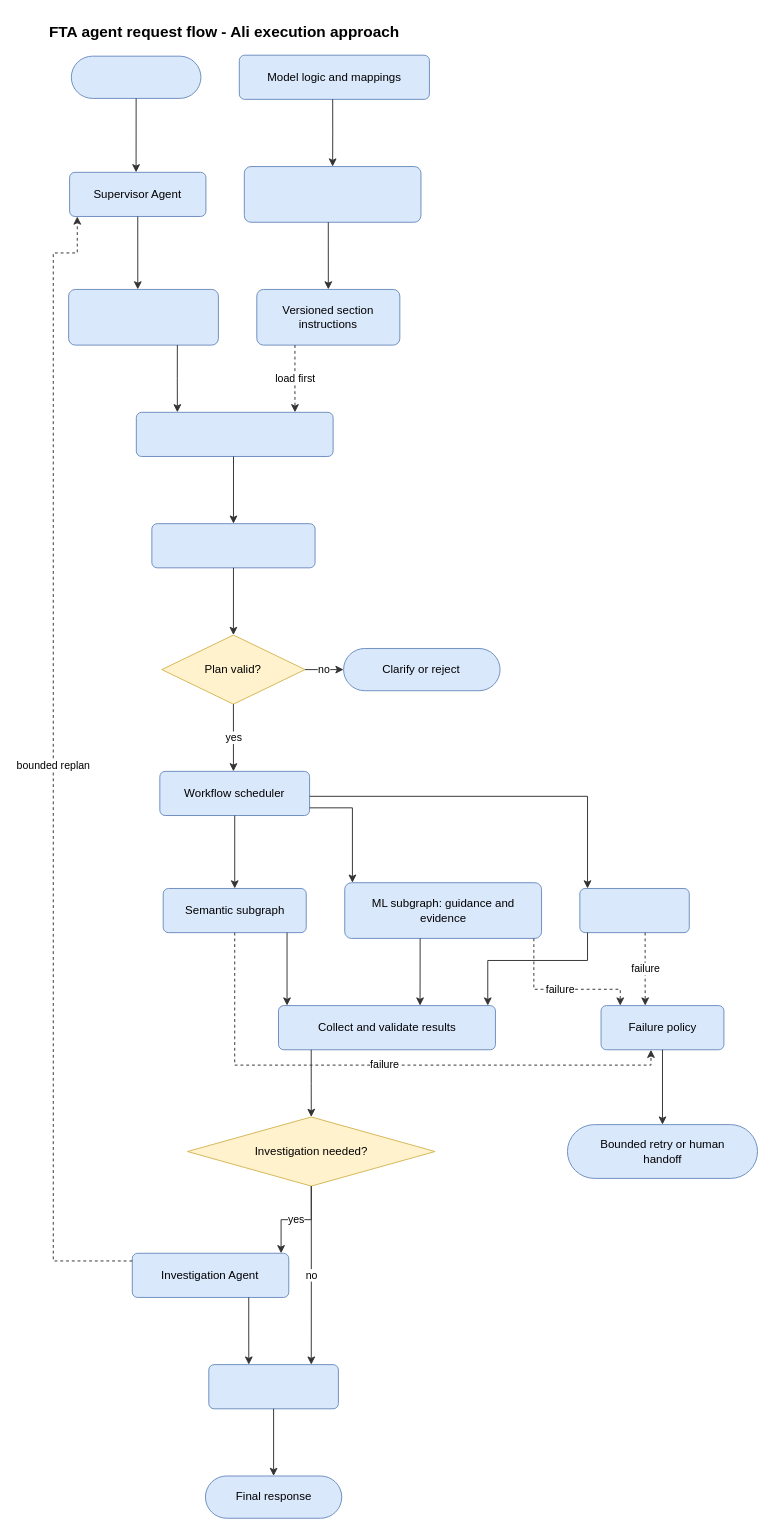
Some shapes in this 775 by 1535 pixel diagram are drawn without their labels. Here are the shapes that lost their labels. From the top down, the box of each, then its label:
(70, 55, 201, 98): User question
(243, 166, 421, 222): Prepare reviewed plain language
(68, 288, 218, 345): Resolve domain and permissions
(135, 411, 333, 456): Load section instructions
(151, 523, 315, 568): Build execution plan
(579, 888, 689, 933): RAG subgraph
(208, 1364, 338, 1409): Reporting Agent
